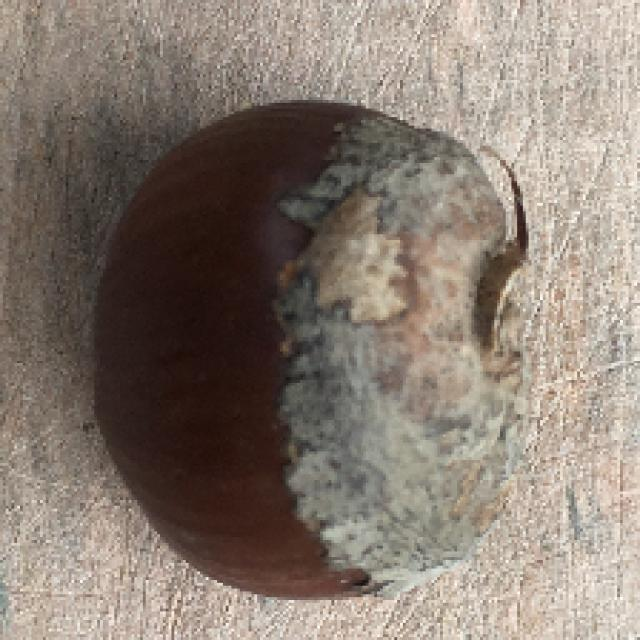DamagedHazelnut: (89, 104, 527, 611)
